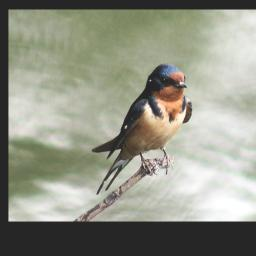Swallow: (95, 62, 195, 196)
